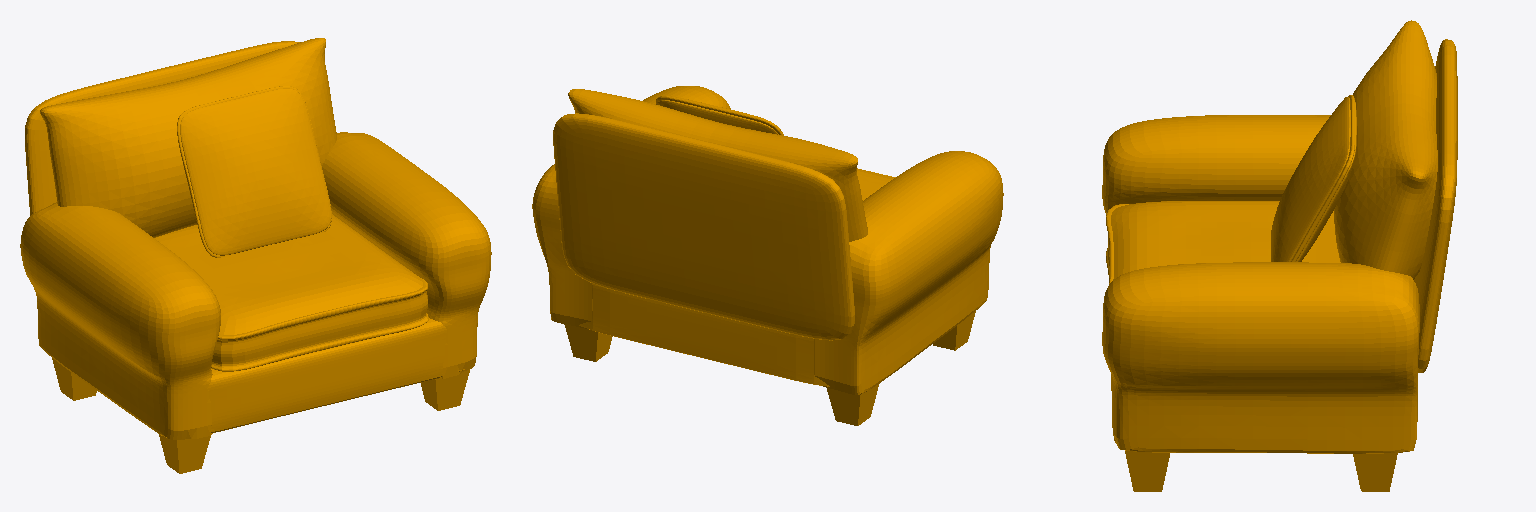
The robot description file, URDF, robot "none":
<robot name="none">
       <link name="none">
           <visual>
               <origin rpy="1.57 0 0" xyz="0 0 0" />
               <geometry>
                   <mesh filename="singleChair.obj" />
               </geometry>
           </visual>
          <collision>
              <geometry>
                  <box size="1.000000 0.741117 0.761492" />
              </geometry>
          </collision>

          <inertial>
            <mass value="0.0" />
            <inertia ixx="0.0" ixy="0.0" ixz="0.0" iyy="0.0" iyz="0.0" izz="0.0" />
          </inertial>
      </link>
  </robot>

--- Facts derived from the render (not from the file) ---
The picture shows the robot from 3 angles, left to right: view 1: azimuth 30°, elevation 25°; view 2: azimuth 150°, elevation 25°; view 3: azimuth 270°, elevation 25°; orthographic projection.
Robot: none — 1 links, 0 joints (none); root link none; default pose: all joints at 0.
Visible links, largest first — view 1: none; view 2: none; view 3: none.
Boxes of the visible links, <box> form: none: <box>20,38,491,473</box>; none: <box>532,86,1003,425</box>; none: <box>1102,20,1457,491</box>.
Size in the robot's own frame: 1 by 0.7618 by 0.7411 metres.
1 mesh visuals loaded from 1 distinct referenced files (1 OBJ).